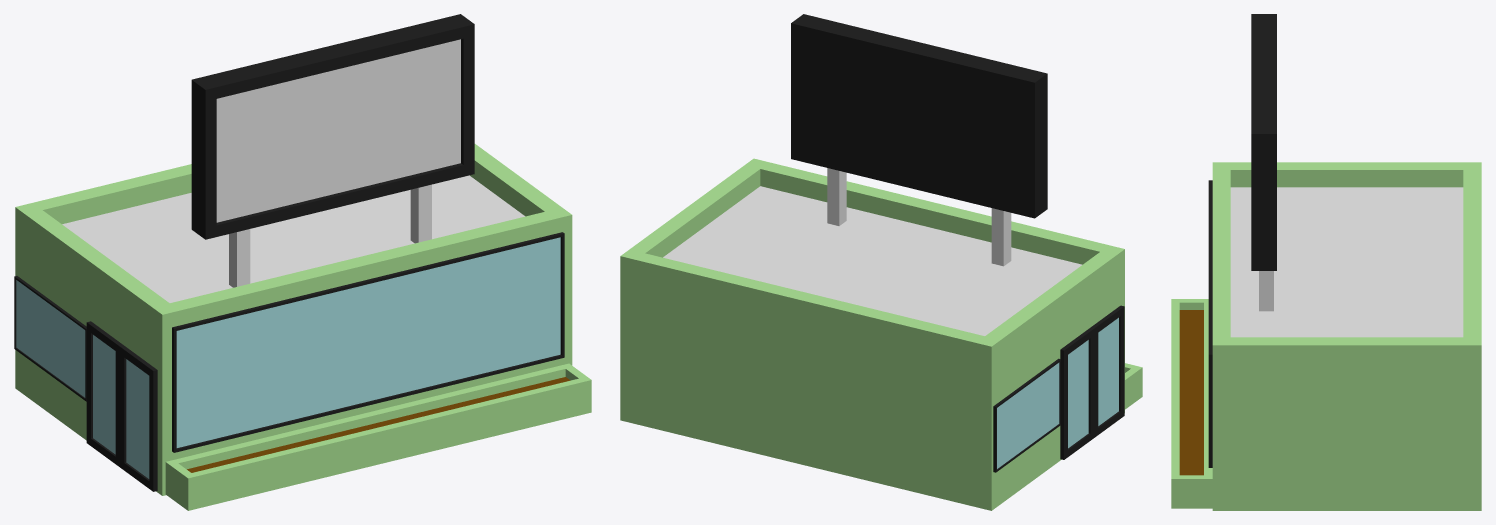
File: Restaurant 1.fbx
3 views of the same model, side by side, from view 1: azimuth 30°, elevation 25°; view 2: azimuth 150°, elevation 25°; view 3: azimuth 270°, elevation 25° (orthographic). The views are drawn at different scales.
Parts seen in each view (by area): view 1: Cube; view 2: Cube; view 3: Cube.
Part boxes in pixels (left/top/right/bottom): Cube: left=14, top=14, right=591, bottom=510; Cube: left=620, top=14, right=1142, bottom=510; Cube: left=1171, top=14, right=1481, bottom=510.
Size of the model in its own units: 727 by 629 by 516.
